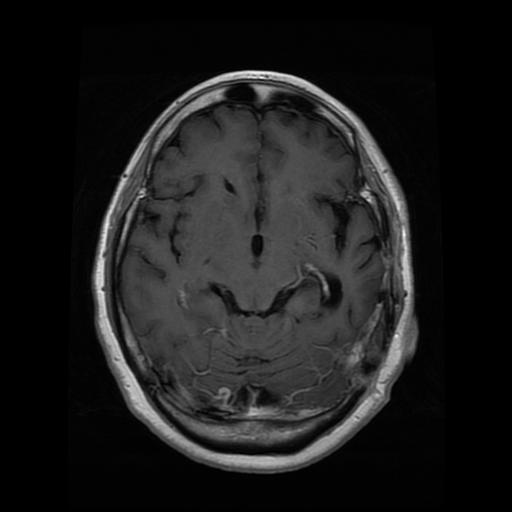Gliomia_tumour: (291, 301, 383, 403)
